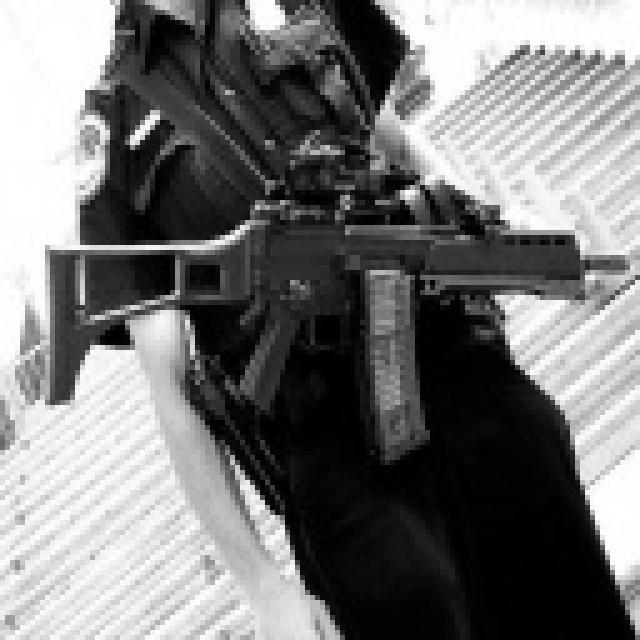Rifle: (0, 115, 640, 474)
